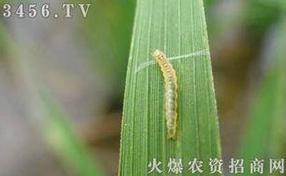pest: (151, 50, 180, 137)
